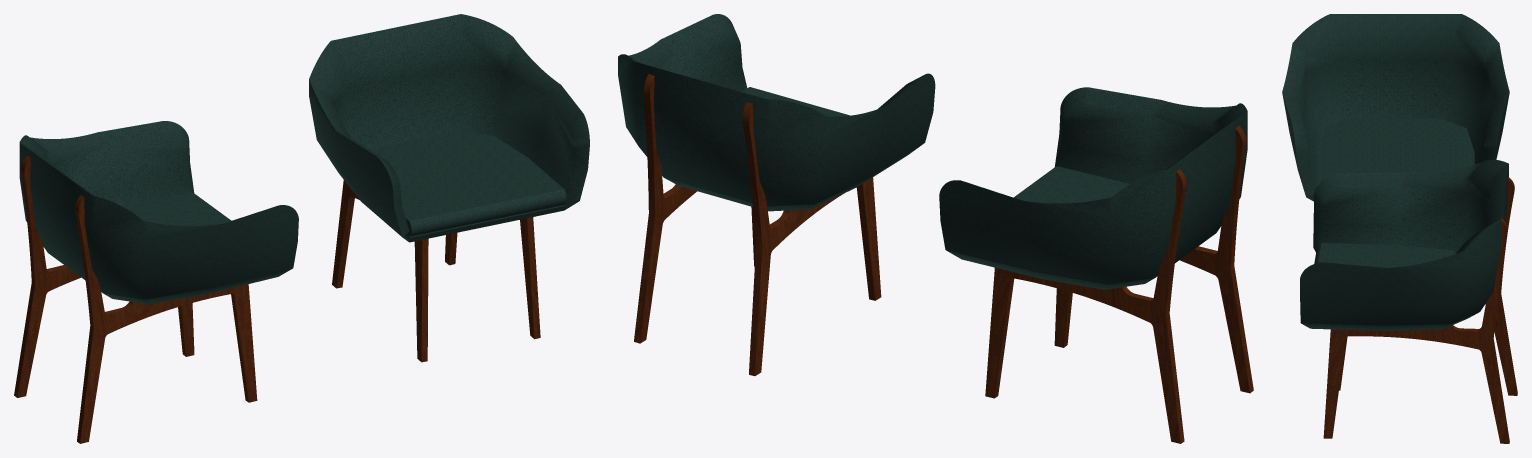
The model's file is poltrona.glb.
3 views of the same model, side by side, from view 1: azimuth 30°, elevation 25°; view 2: azimuth 150°, elevation 25°; view 3: azimuth 270°, elevation 25° (orthographic). The views are drawn at different scales.
Visible parts, largest first — view 1: Component#11 (×2); view 2: Component#11 (×2); view 3: Component#11 (×2).
Boxes of the visible parts, x1,y1,x2,y2 form: Component#11 (×2): (14, 14, 589, 443); Component#11 (×2): (618, 14, 1253, 443); Component#11 (×2): (1282, 14, 1517, 443).
Size of the model in its own units: 1.63 by 0.7642 by 0.7189.
2 materials, 2 textured.
